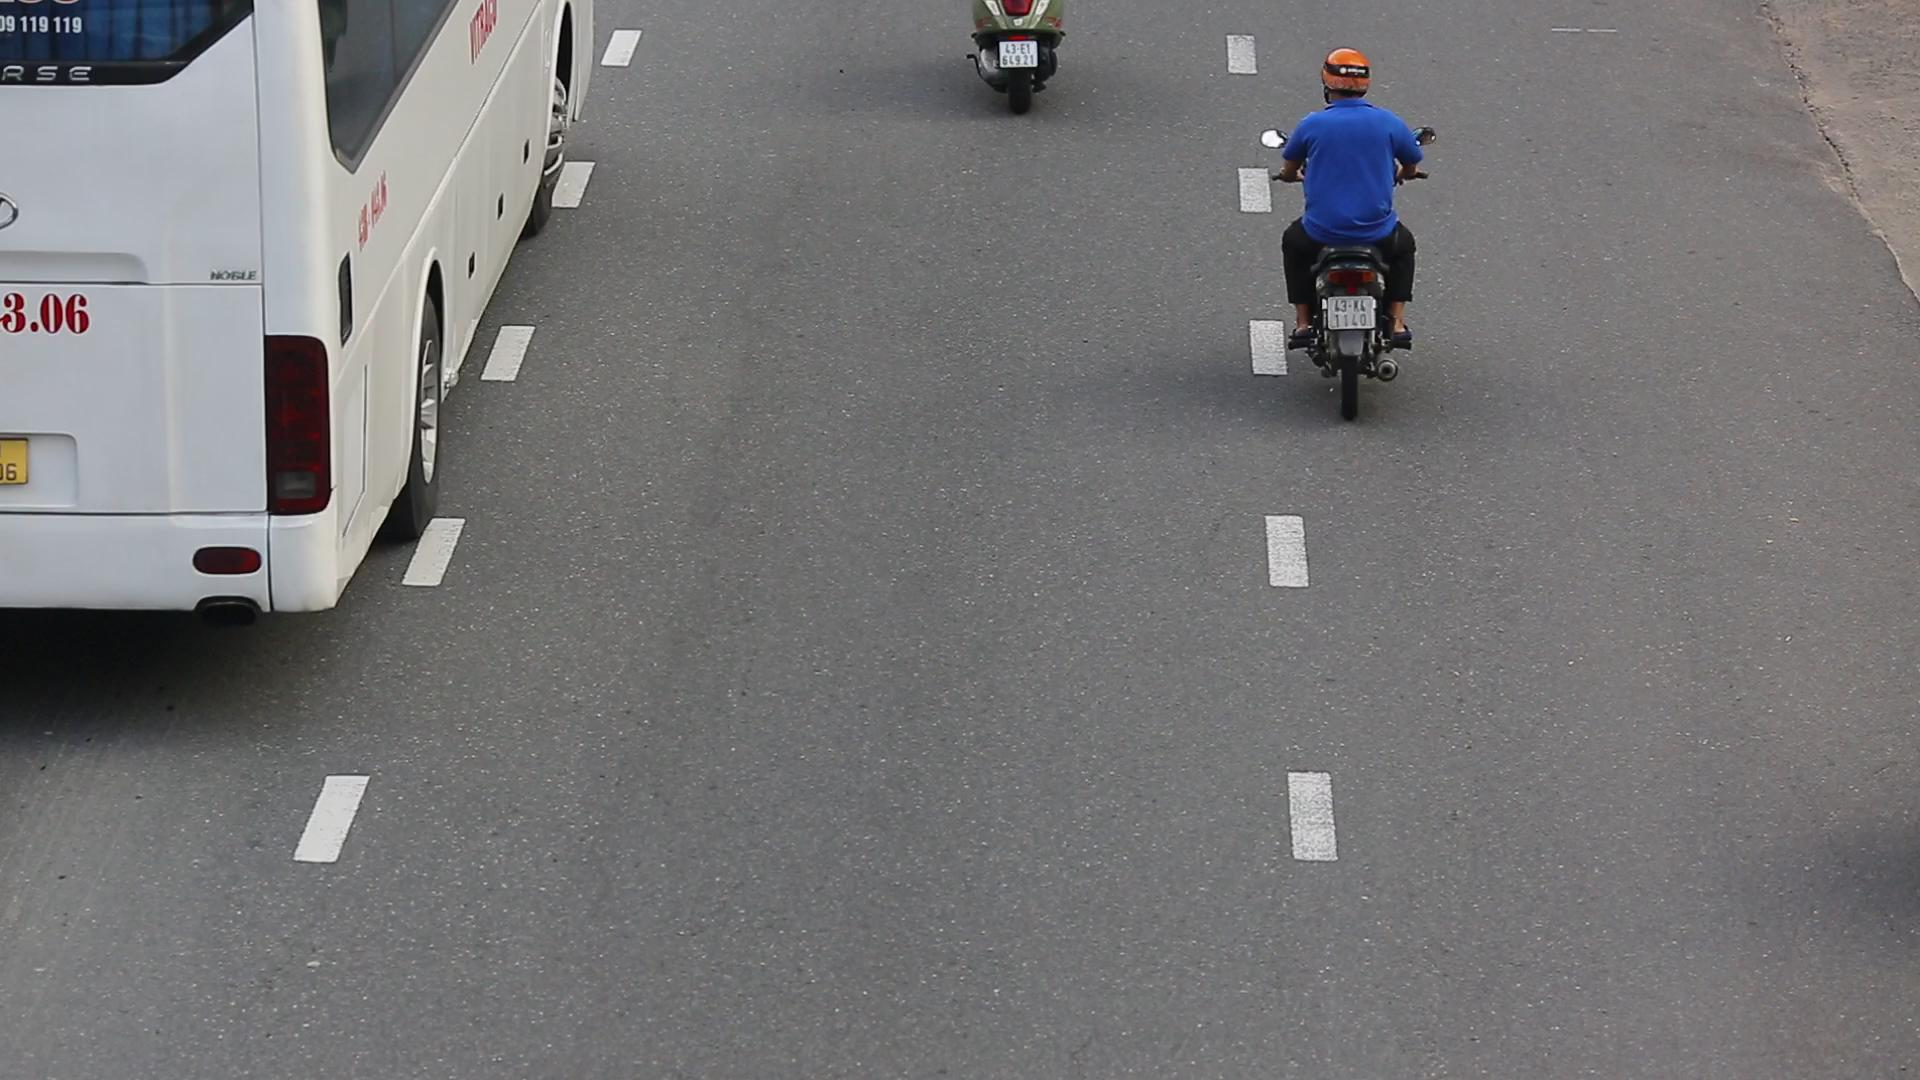motobike: (1254, 18, 1443, 429)
